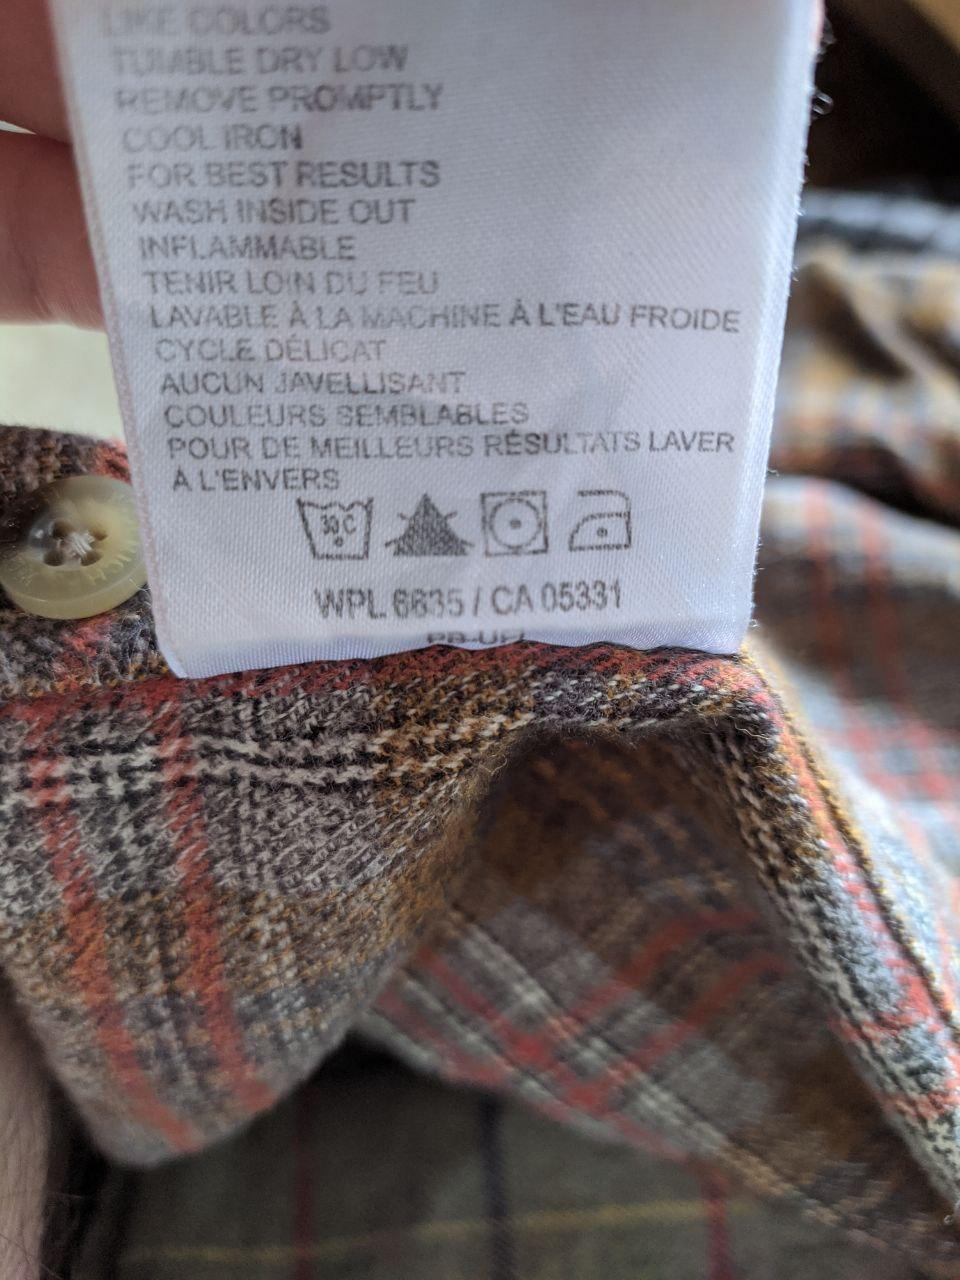30C: (296, 491, 385, 560)
DN_bleach: (389, 498, 466, 560)
iron_low: (564, 485, 633, 553)
tumble_dry_low: (479, 485, 552, 565)
